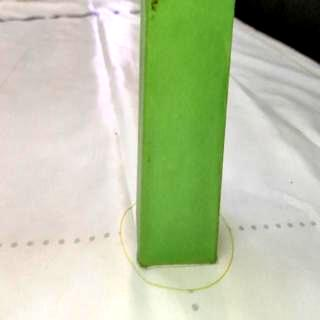greenbox: (137, 0, 236, 264)
